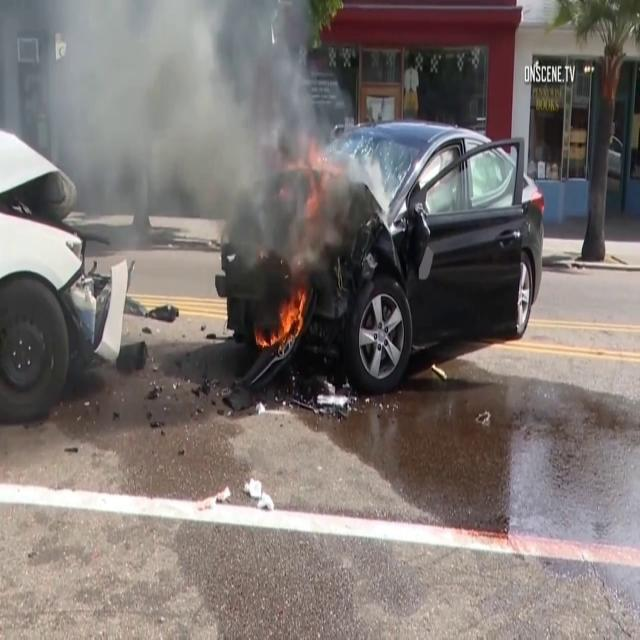Fire: (256, 281, 310, 354)
Smoke: (0, 0, 367, 268)
